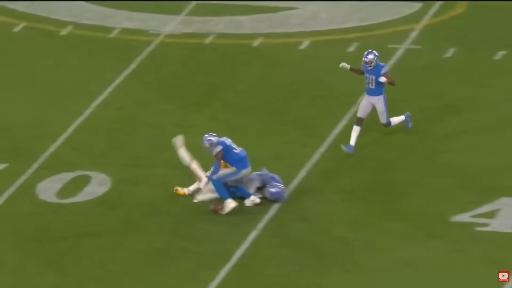Helmet: (264, 183, 285, 202), (362, 51, 378, 68), (203, 133, 218, 149), (221, 160, 231, 170)
Jersey: (213, 138, 250, 169), (362, 62, 387, 96), (252, 172, 283, 186)
Player: (340, 51, 411, 153), (200, 134, 260, 213), (173, 135, 218, 202), (172, 135, 217, 202), (247, 168, 285, 202)
